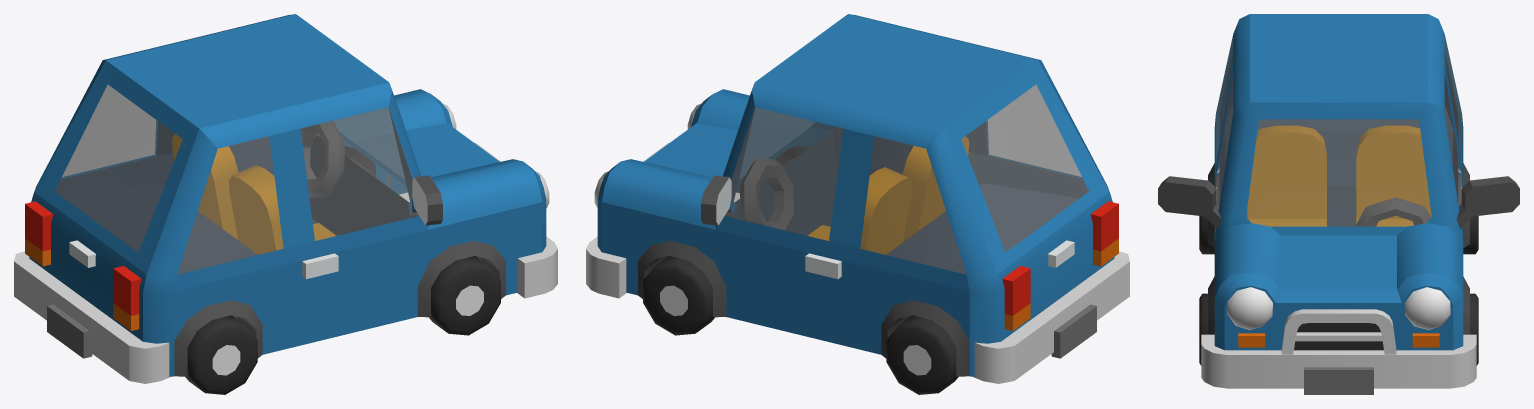
Rendered from car01_s01.FBX.
3 renders of one model, left to right at view 1: azimuth 30°, elevation 25°; view 2: azimuth 150°, elevation 25°; view 3: azimuth 270°, elevation 25°, orthographic. The views are drawn at different scales.
Visible parts, largest first — view 1: car01_s01; view 2: car01_s01; view 3: car01_s01.
Boxes of the visible parts, <box> form: car01_s01: <box>14,14,557,394</box>; car01_s01: <box>586,14,1129,394</box>; car01_s01: <box>1158,14,1519,394</box>.
Bounding box in the file's own units: 273 × 205 × 148.
Materials: 2 (1 with a texture image).
